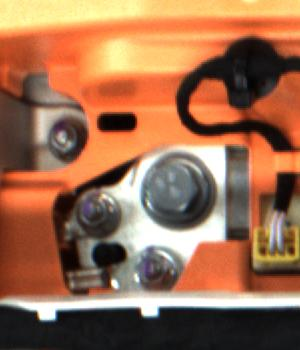nut_b: (134, 149, 214, 232)
screw_s: (74, 188, 115, 234), (134, 249, 174, 292), (43, 116, 79, 158)
